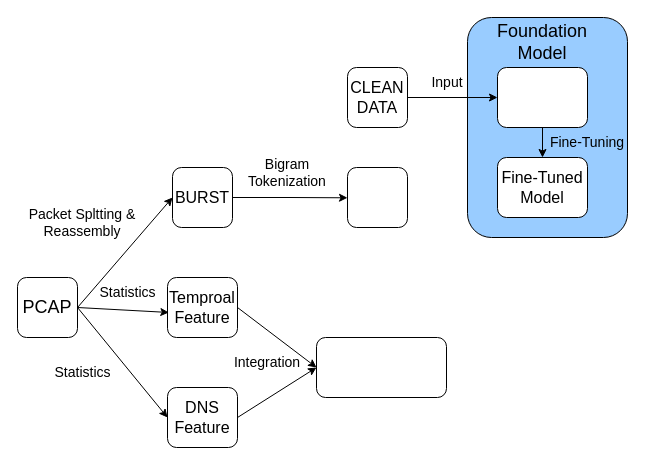
Some shapes in this 645 by 465 pixel diagram are drawn without their labels. Each missing label, with the centre of its shape:
"Multidimensional Features" belongs at (x=381, y=367).
"Pretrained Model" belongs at (x=542, y=97).
"TOKEN" belongs at (x=377, y=197).
